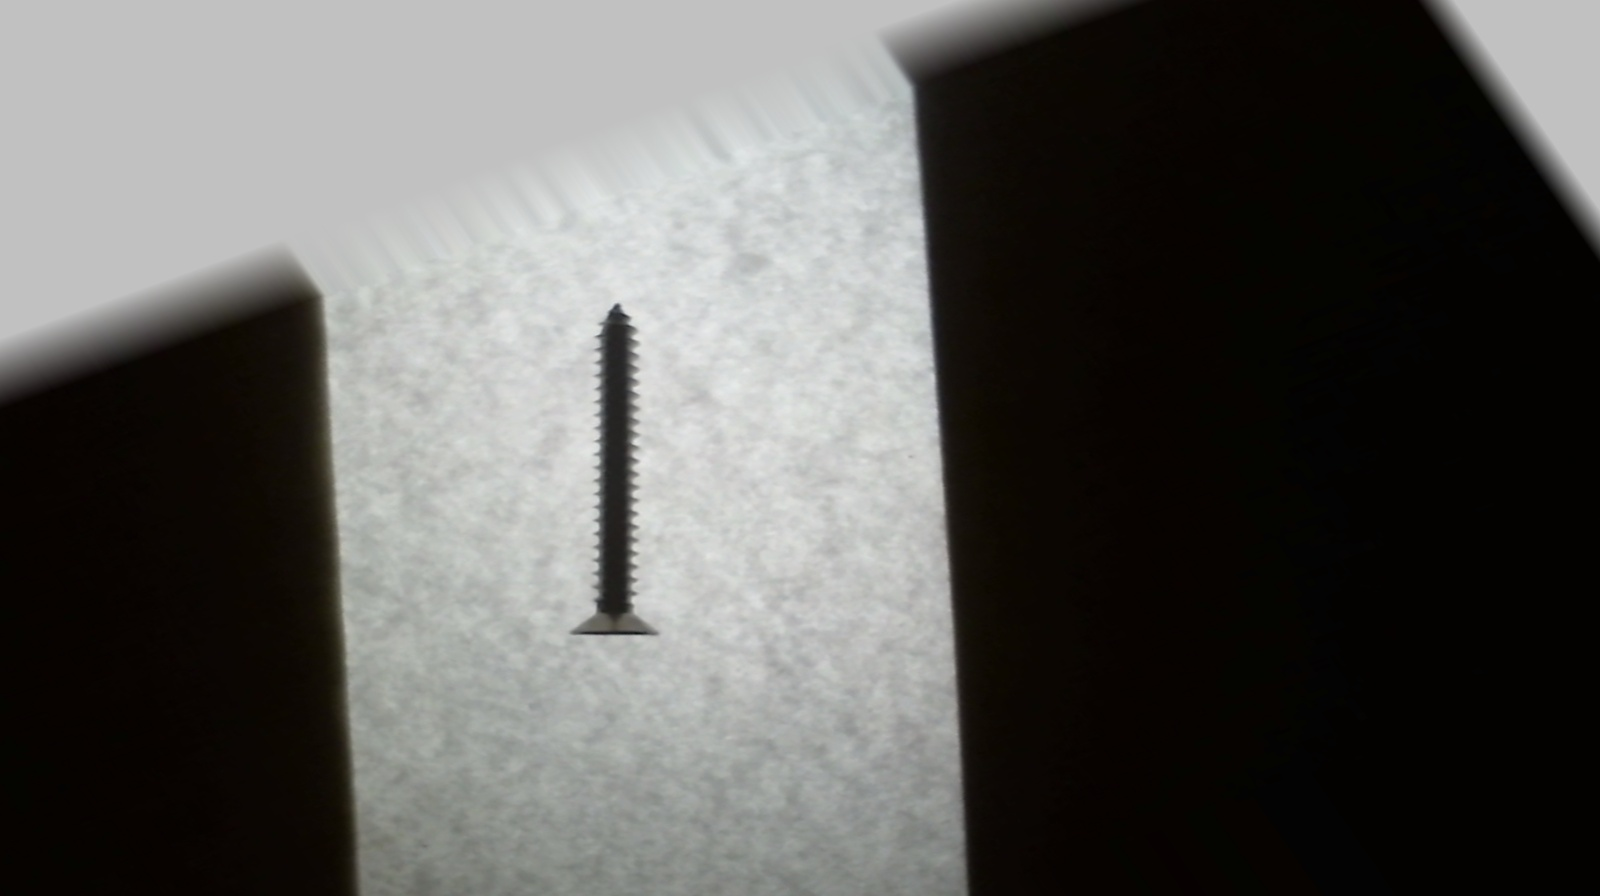S002: (369, 283, 837, 675)
